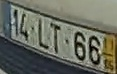1: (11, 8, 19, 39)
4: (19, 12, 28, 41)
6: (87, 34, 101, 66), (72, 30, 86, 62)
L: (37, 17, 49, 50)
T: (49, 21, 61, 55)
